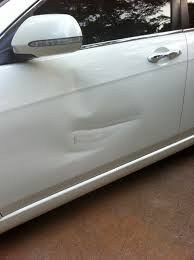Dent: (62, 68, 142, 150)
